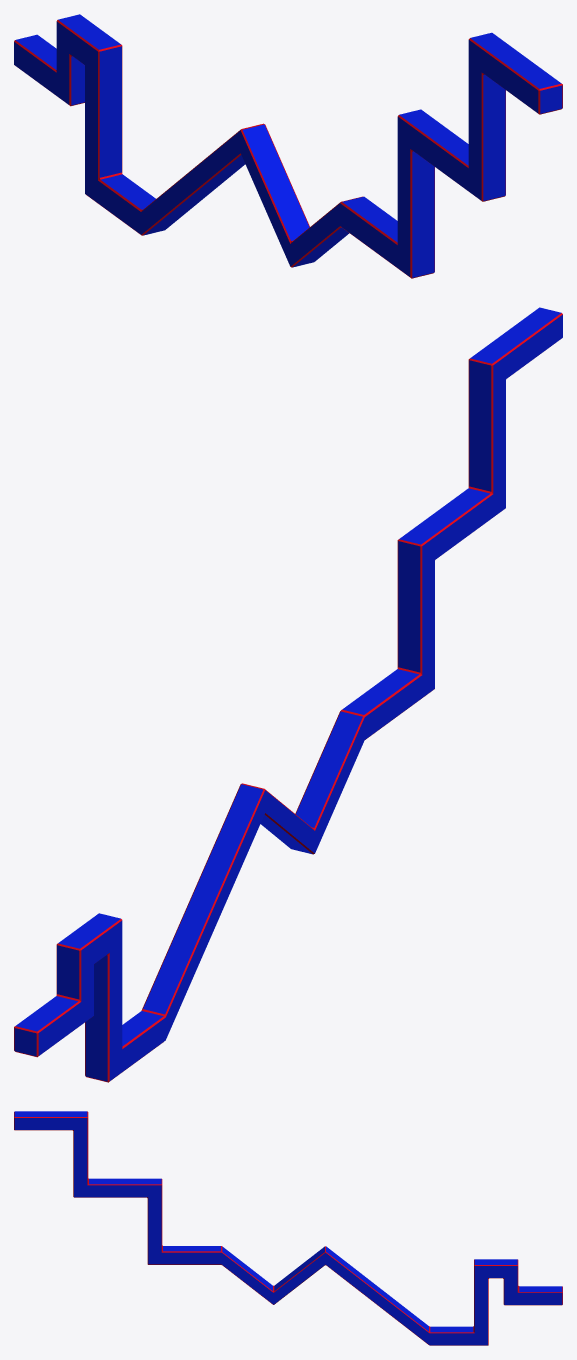
File: L14_Cross_Platform1.fbx
The picture shows the model from 3 angles, top to bottom: view 1: azimuth 30°, elevation 25°; view 2: azimuth 150°, elevation 25°; view 3: azimuth 270°, elevation 25°; orthographic projection. The views are drawn at different scales.
Parts seen in each view (by area): view 1: L14_Cross_Platform1; view 2: L14_Cross_Platform1; view 3: L14_Cross_Platform1.
Boxes of the visible parts, x1=… form: L14_Cross_Platform1: x1=14, y1=14, x2=562, y2=278; L14_Cross_Platform1: x1=14, y1=307, x2=562, y2=1082; L14_Cross_Platform1: x1=14, y1=1111, x2=562, y2=1345.
Size of the model in its own units: 100 by 1700 by 3700.
